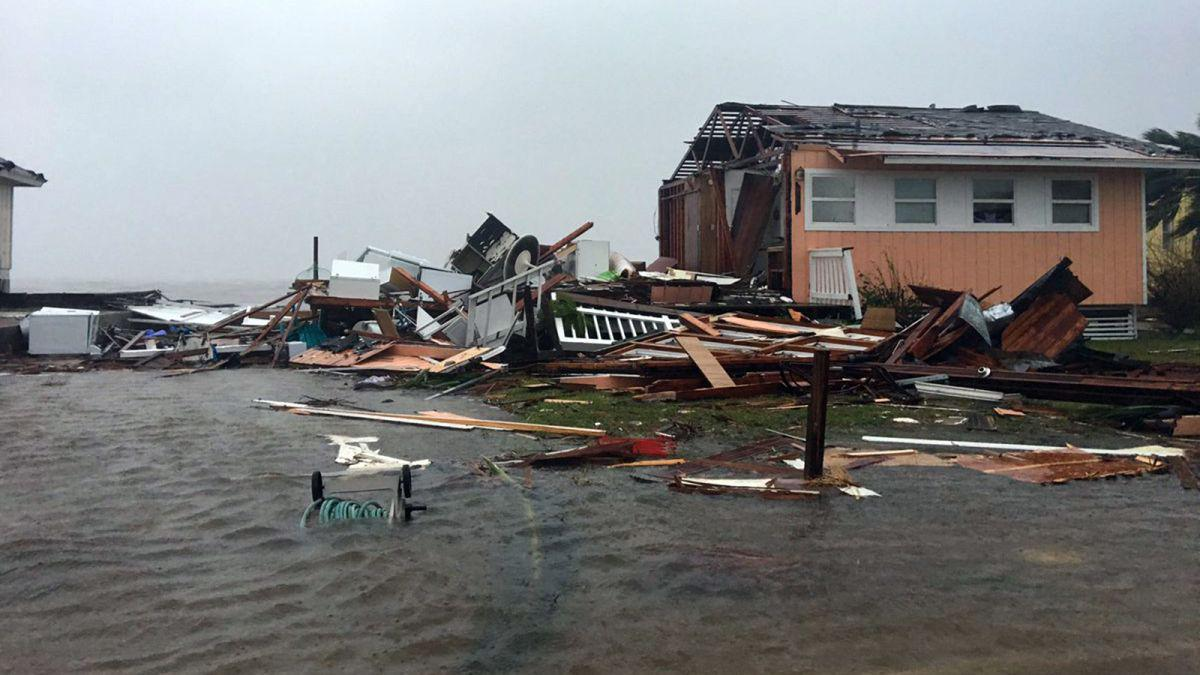destroyed: (525, 91, 1198, 368)
